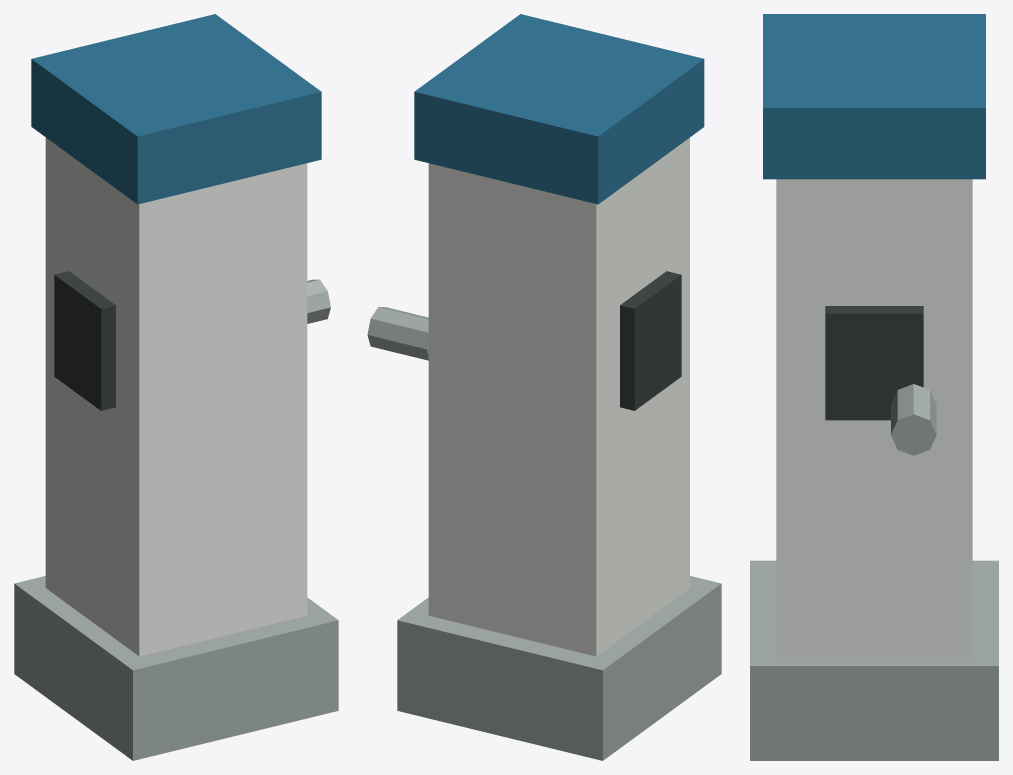
The model's file is dock-service.glb.
3 renders of one model, left to right at view 1: azimuth 30°, elevation 25°; view 2: azimuth 150°, elevation 25°; view 3: azimuth 270°, elevation 25°, orthographic. The views are drawn at different scales.
Parts seen in each view (by area): view 1: Dock pedestal, Blue service top, Dock pedestal base, Outlet; view 2: Dock pedestal, Blue service top, Dock pedestal base, Outlet; view 3: Dock pedestal, Blue service top, Dock pedestal base, Outlet.
Part boxes in pixels (x1,y1,x2,y2): Dock pedestal: (45, 137, 307, 656); Blue service top: (31, 14, 321, 204); Dock pedestal base: (14, 279, 338, 760); Outlet: (54, 271, 115, 410); Dock pedestal: (428, 137, 689, 656); Blue service top: (414, 14, 704, 204); Dock pedestal base: (367, 307, 721, 760); Outlet: (620, 271, 681, 410); Dock pedestal: (776, 179, 972, 656); Blue service top: (763, 14, 985, 179); Dock pedestal base: (750, 384, 998, 760); Outlet: (825, 306, 923, 420).
Size of the model in its own units: 0.49 by 1.09 by 0.38.
